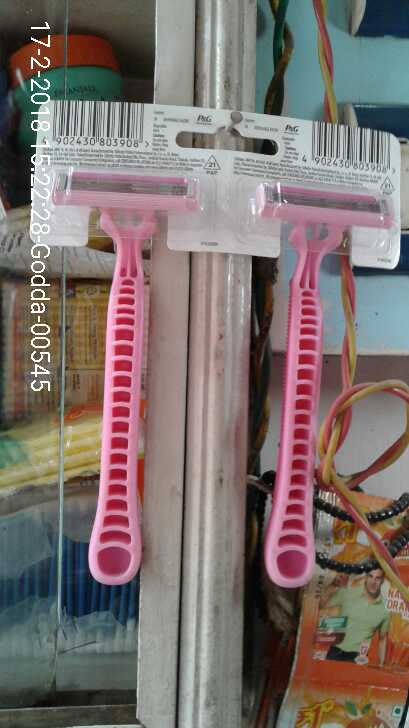venus: (233, 161, 385, 596), (45, 160, 181, 588)
